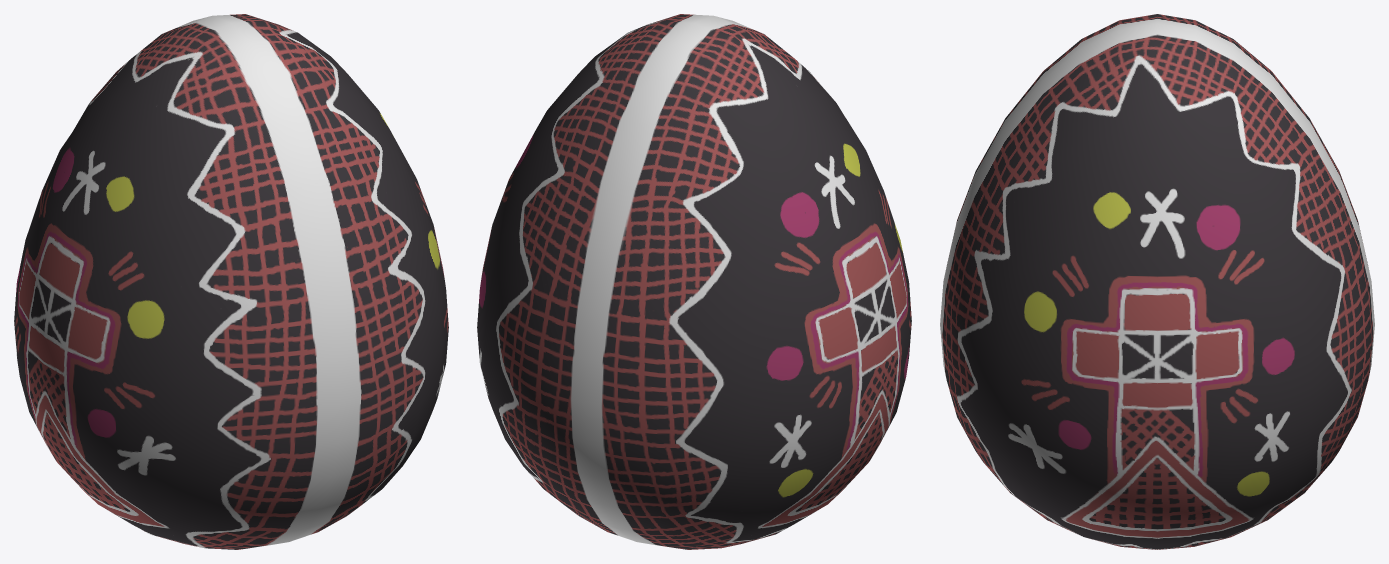
Rendered from pysanka_v2-04.gltf.
3 renders of one model, left to right at view 1: azimuth 30°, elevation 25°; view 2: azimuth 150°, elevation 25°; view 3: azimuth 270°, elevation 25°, orthographic.
Visible parts, largest first — view 1: Pysanka; view 2: Pysanka; view 3: Pysanka.
Part boxes in pixels (bbox=[...]): Pysanka: bbox=[14, 14, 448, 549]; Pysanka: bbox=[477, 14, 911, 549]; Pysanka: bbox=[940, 14, 1374, 549].
Bounding box in the file's own units: 2 × 2.57 × 2.
Materials: 1 (1 with a texture image).
